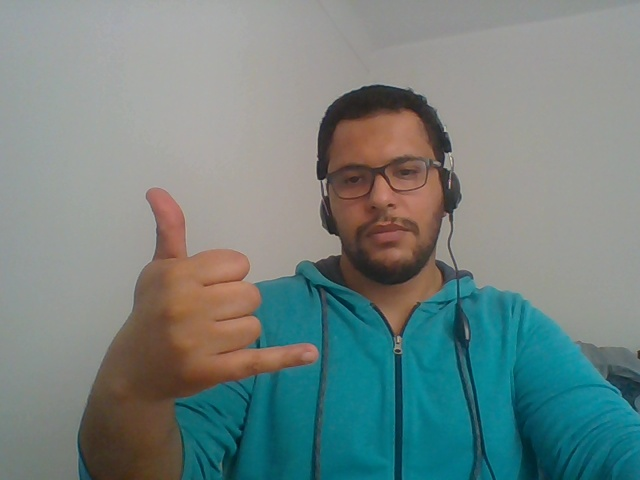callme: (90, 161, 329, 457)
